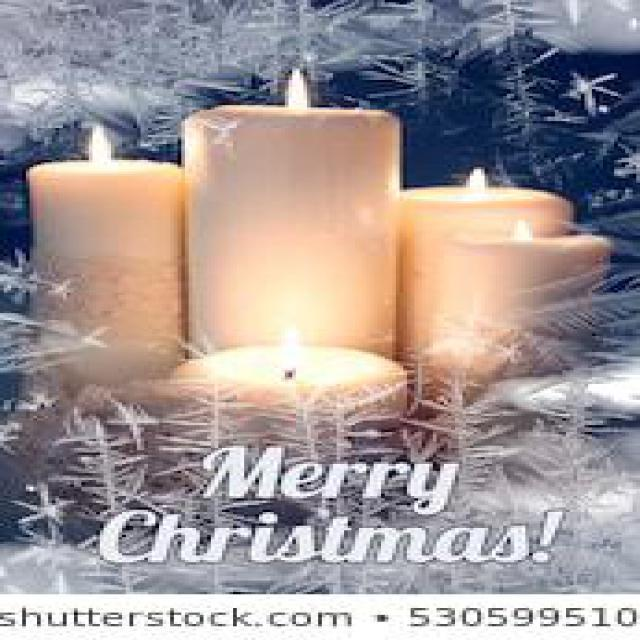Fire: (278, 325, 308, 368), (281, 68, 311, 110), (87, 124, 113, 170), (464, 168, 486, 202), (510, 218, 532, 244)
